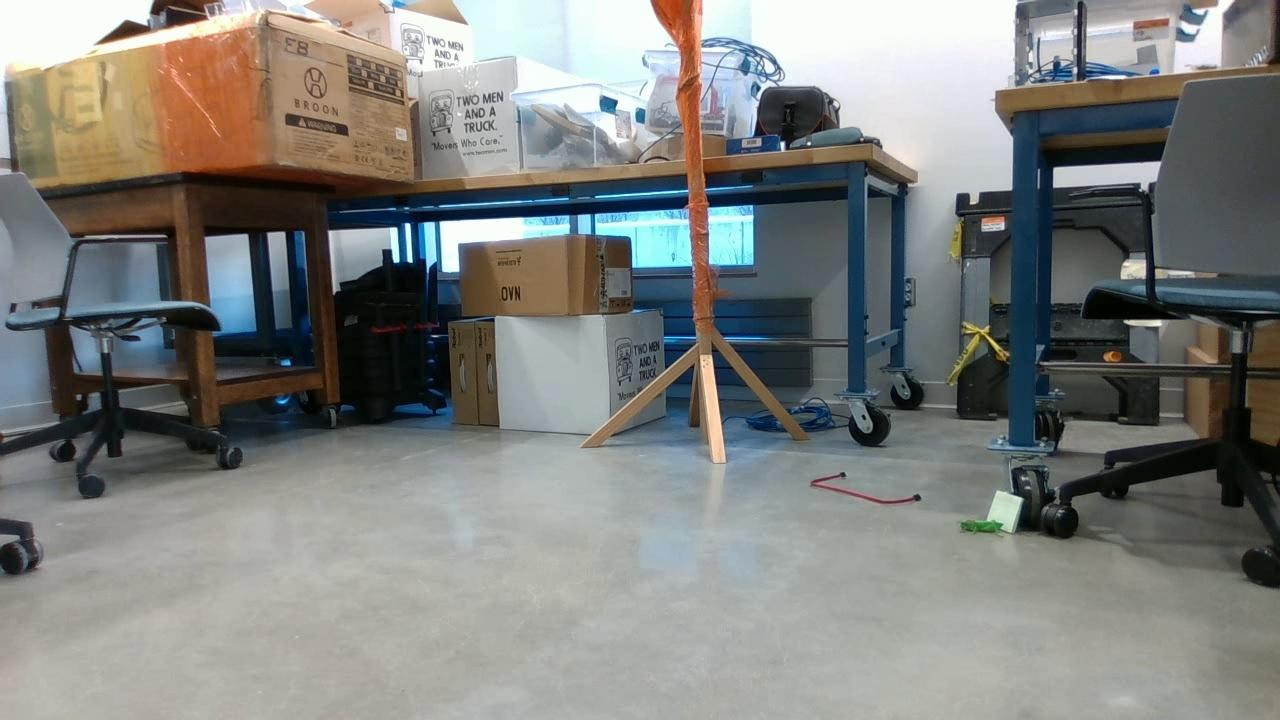grasshopper: (960, 519, 1004, 536)
